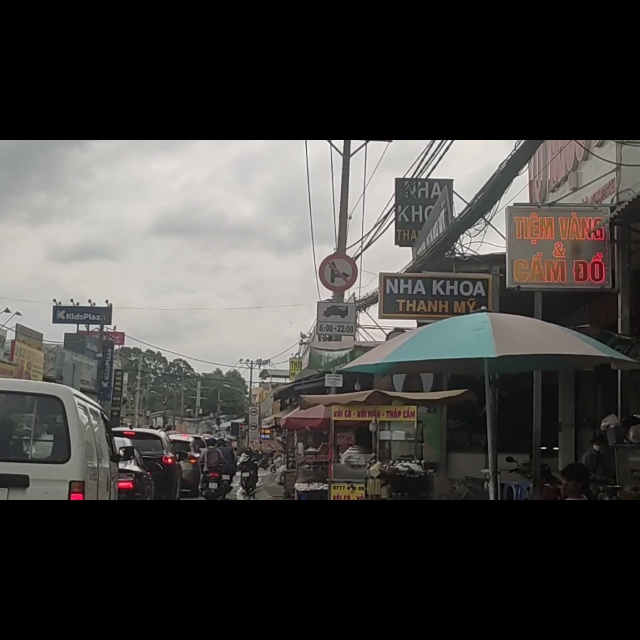bien_cam: (319, 201, 357, 270), (317, 288, 355, 347)
